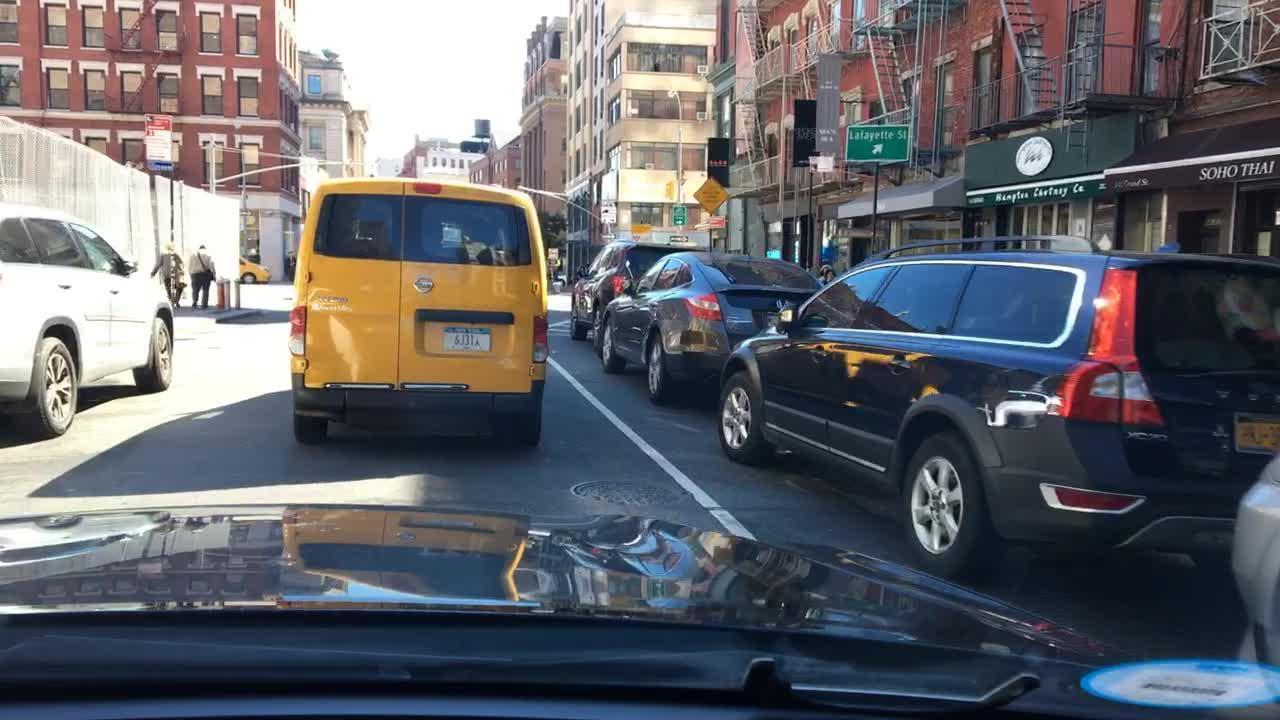Honda: (771, 289, 796, 311)
Nissan: (404, 269, 446, 307)
